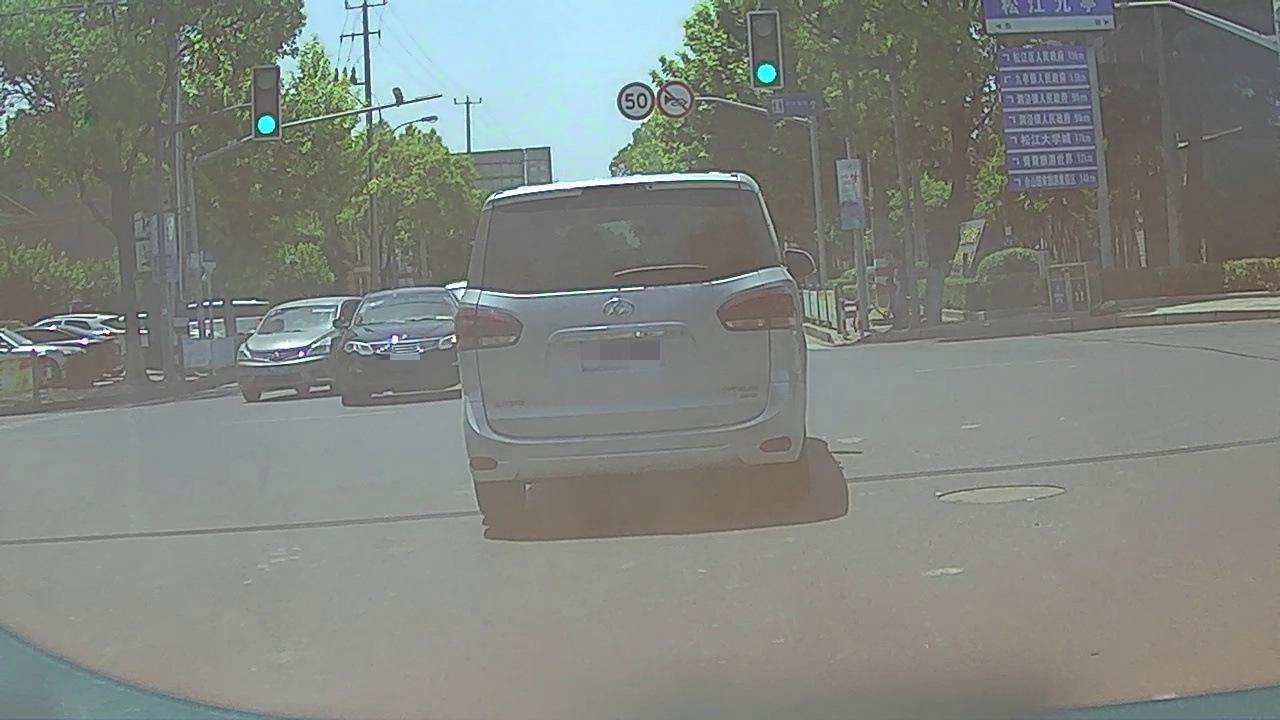traffic_light: (253, 68, 284, 139), (752, 12, 780, 87)
